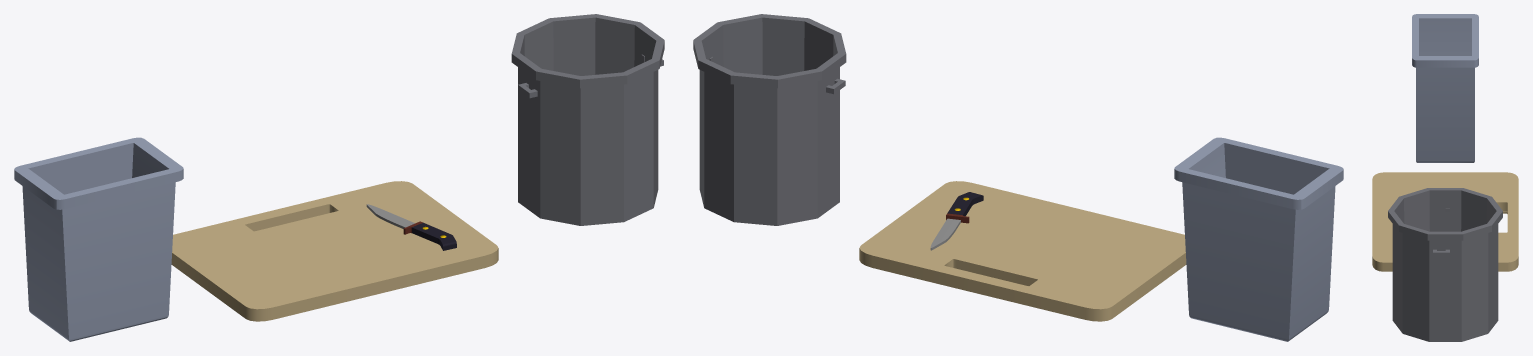
Rendered from kit cozinha3.fbx.
The picture shows the model from 3 angles, left to right: view 1: azimuth 30°, elevation 25°; view 2: azimuth 150°, elevation 25°; view 3: azimuth 270°, elevation 25°; orthographic projection. The views are drawn at different scales.
Parts seen in each view (by area): view 1: Cube.002, Cube, Cube.003, Cube.001; view 2: Cube.002, Cube, Cube.003, Cube.001; view 3: Cube.002, Cube.003, Cube.
Boxes of the visible parts, left/top/right/bottom form: Cube.002: left=511, top=14, right=664, bottom=225; Cube: left=171, top=181, right=498, bottom=321; Cube.003: left=14, top=137, right=183, bottom=341; Cube.001: left=366, top=204, right=456, bottom=250; Cube.002: left=693, top=14, right=846, bottom=225; Cube: left=859, top=181, right=1186, bottom=321; Cube.003: left=1174, top=137, right=1343, bottom=341; Cube.001: left=930, top=192, right=983, bottom=250; Cube.002: left=1388, top=188, right=1502, bottom=341; Cube.003: left=1412, top=14, right=1478, bottom=162; Cube: left=1372, top=172, right=1518, bottom=271.
Size of the model in its own units: 403 by 93.6 by 112.
